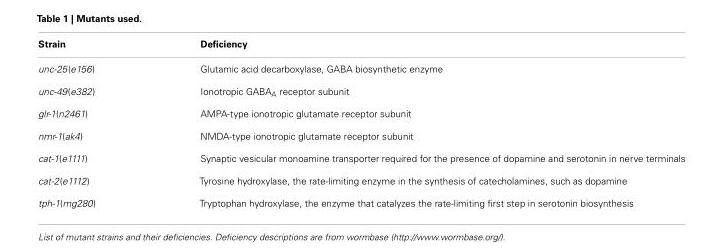table: (37, 37, 684, 208)
table column: (146, 37, 684, 208), (37, 37, 146, 208)
table column header: (37, 37, 684, 55)
table row: (37, 55, 684, 79), (37, 79, 684, 102), (37, 168, 684, 191), (37, 102, 684, 124), (37, 124, 684, 146), (37, 146, 684, 168), (37, 37, 684, 55), (37, 191, 684, 208)
